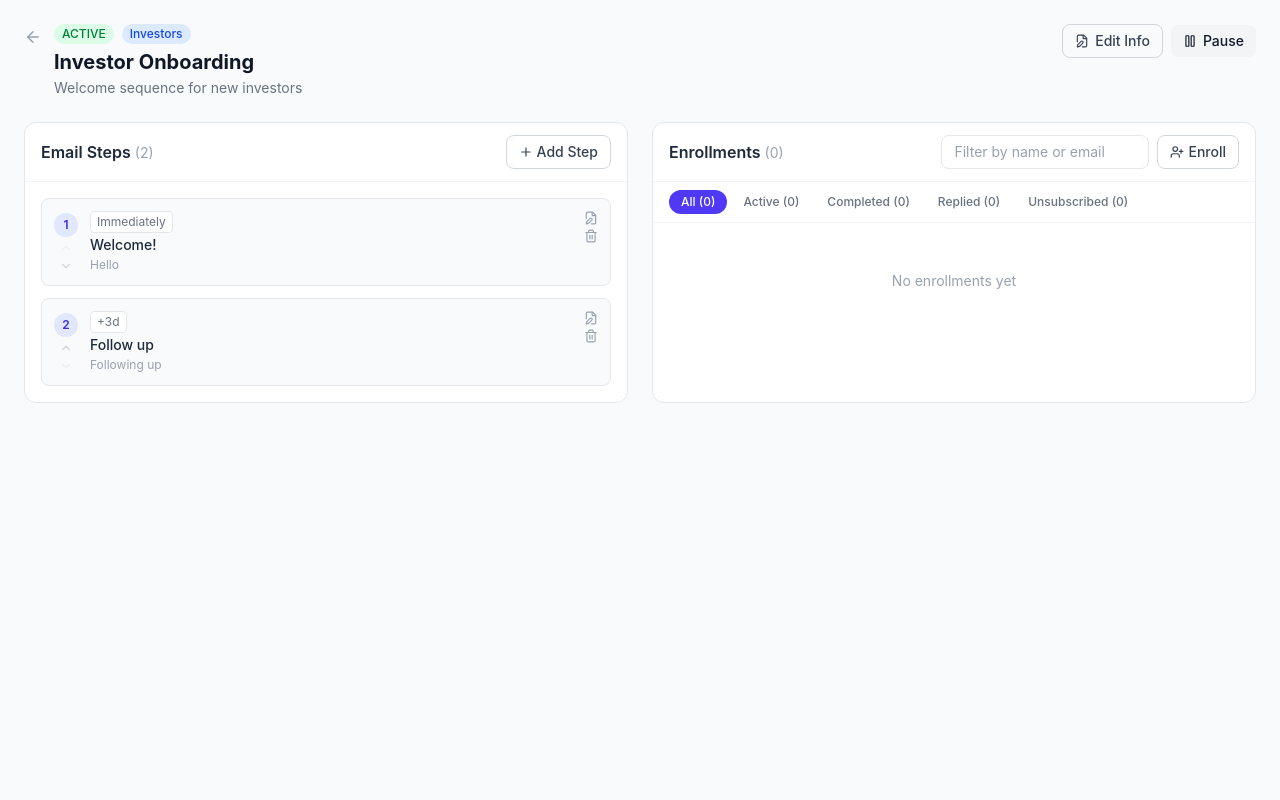
Test: SequenceDetailPage › opening Edit Info modal shows form with current name
Expected: the heading "Investor Onboarding" is shown, x1=54 y1=50 x2=254 y2=74
What coordinates should you click on to do the following:
click the button "Edit Info"
I would click on:
 (1113, 41)
Its box is x1=1062 y1=24 x2=1163 y2=58.
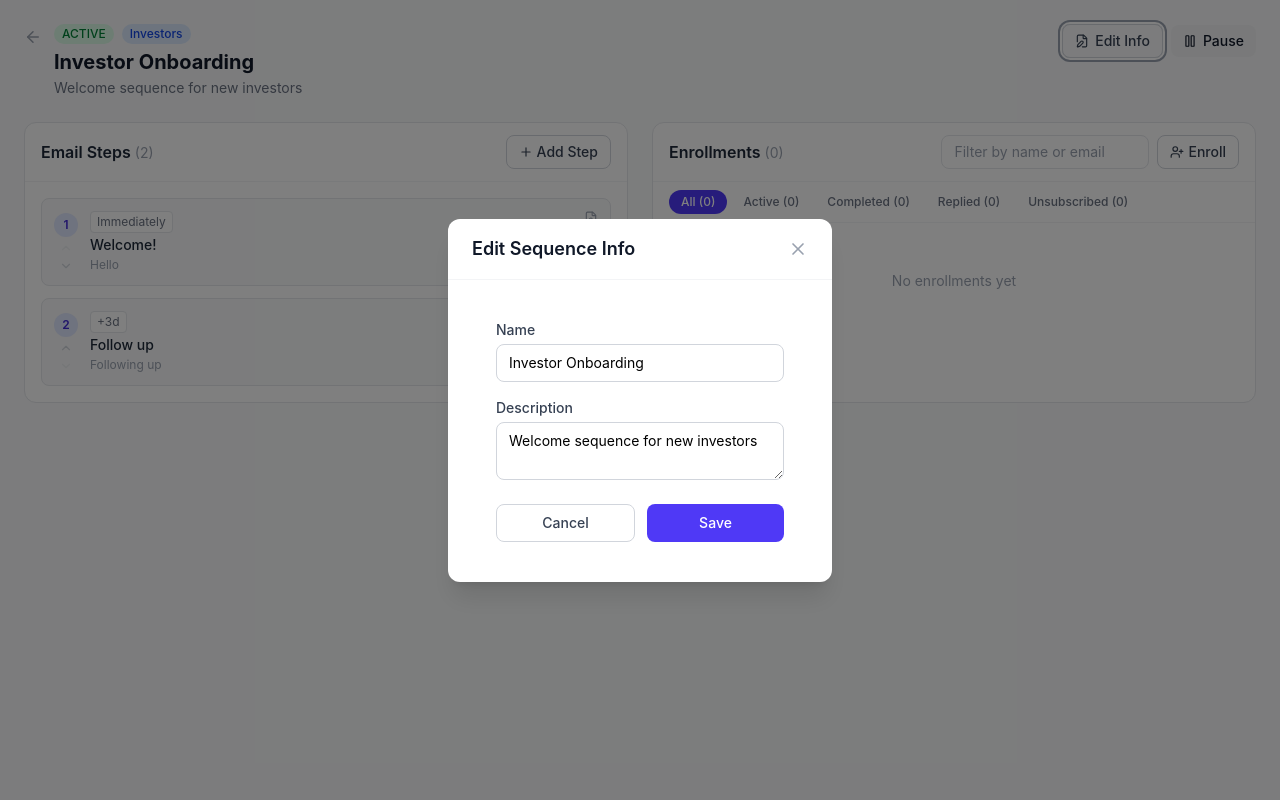
Expected: the heading "Edit Sequence Info" is shown, x1=472 y1=234 x2=635 y2=262
